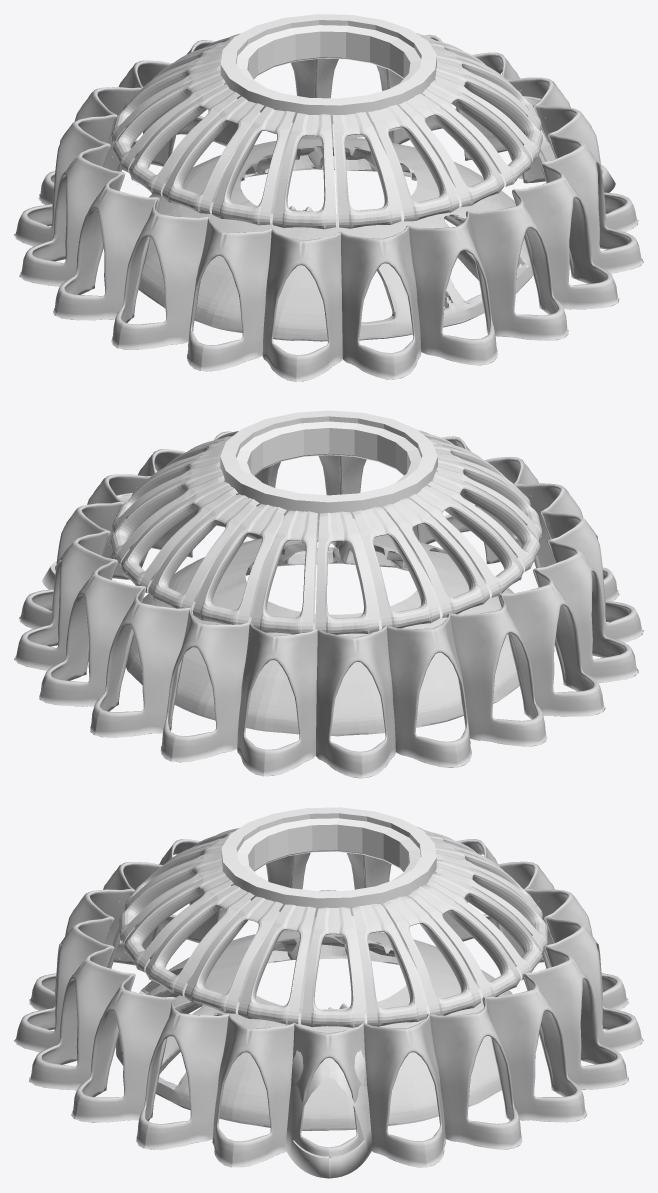
Rendered from test_version.fbx.
The picture shows the model from 3 angles, top to bottom: view 1: azimuth 30°, elevation 25°; view 2: azimuth 150°, elevation 25°; view 3: azimuth 270°, elevation 25°; orthographic projection.
Visible parts, largest first — view 1: wall2, part, whole, Ceiling_low.001, wall; view 2: wall2, part, whole, Ceiling_low.001, wall; view 3: wall2, part, whole, Ceiling_low.001, wall.
Boxes of the visible parts, x1,y1,x2,y2 form: wall2: (14,34,643,381); part: (111,33,542,229); whole: (138,138,533,341); Ceiling_low.001: (220,14,436,139); wall: (508,96,615,192); wall2: (14,431,643,778); part: (110,430,541,634); whole: (126,535,519,736); Ceiling_low.001: (220,410,437,535); wall: (42,492,148,589); wall2: (14,839,643,1167); part: (119,826,547,1027); whole: (116,930,512,1130); Ceiling_low.001: (221,807,436,917); wall: (285,1050,372,1178).
Size of the model in its own units: 16525 by 5495 by 16234.
